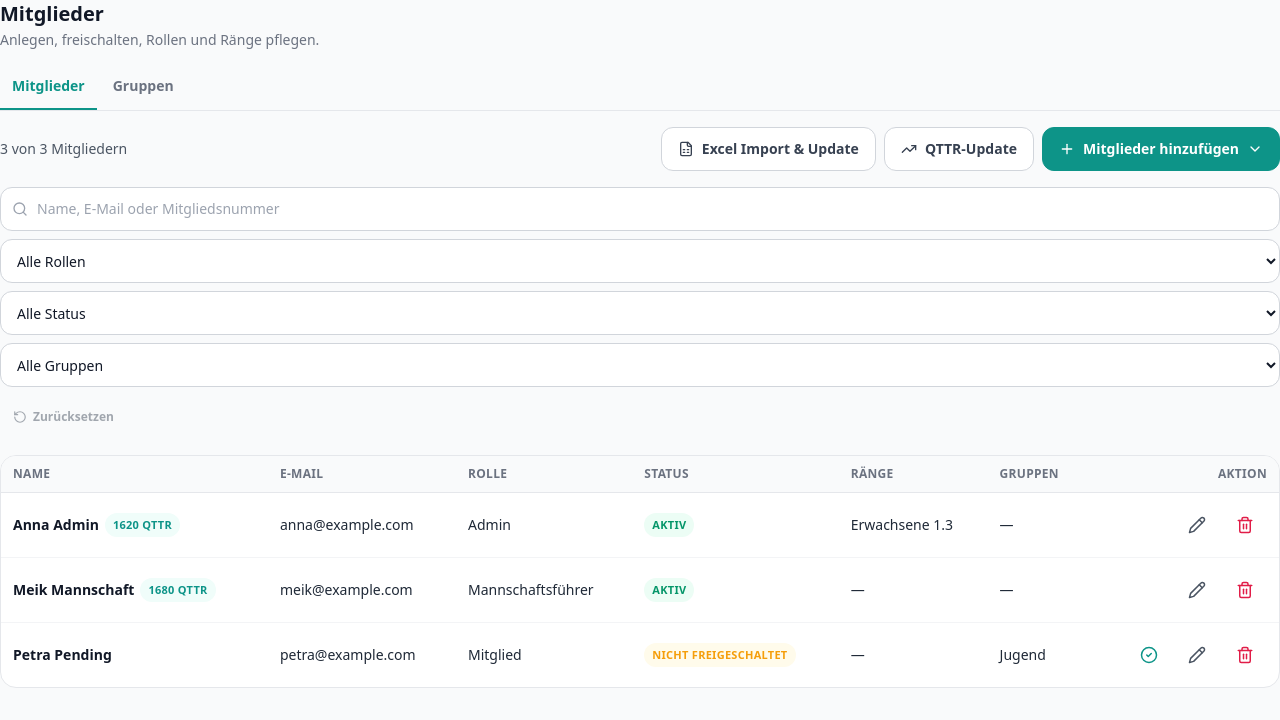
Test case: Gruppen › verlangt einen Gruppennamen
Click the tab "Gruppen". click: x=143, y=88
box: [101,66,186,110]
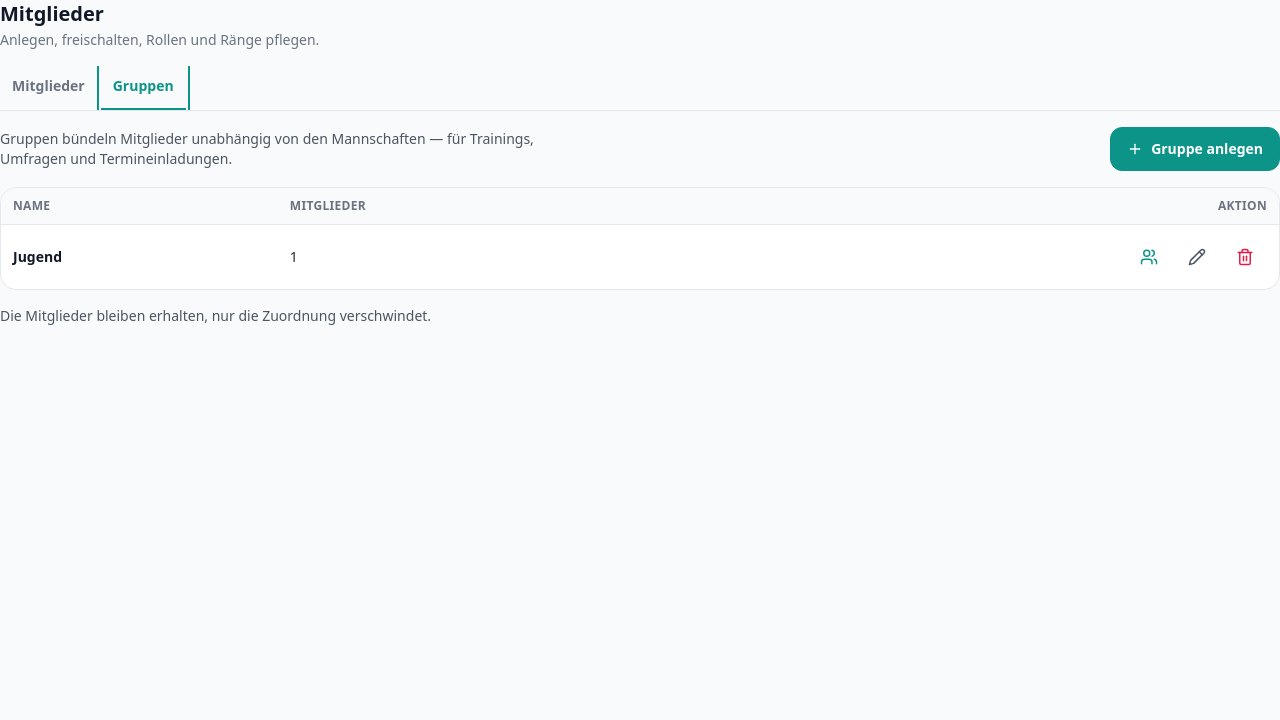
Click the button "Gruppe anlegen". click: x=1195, y=149
box: [1110,127,1279,171]
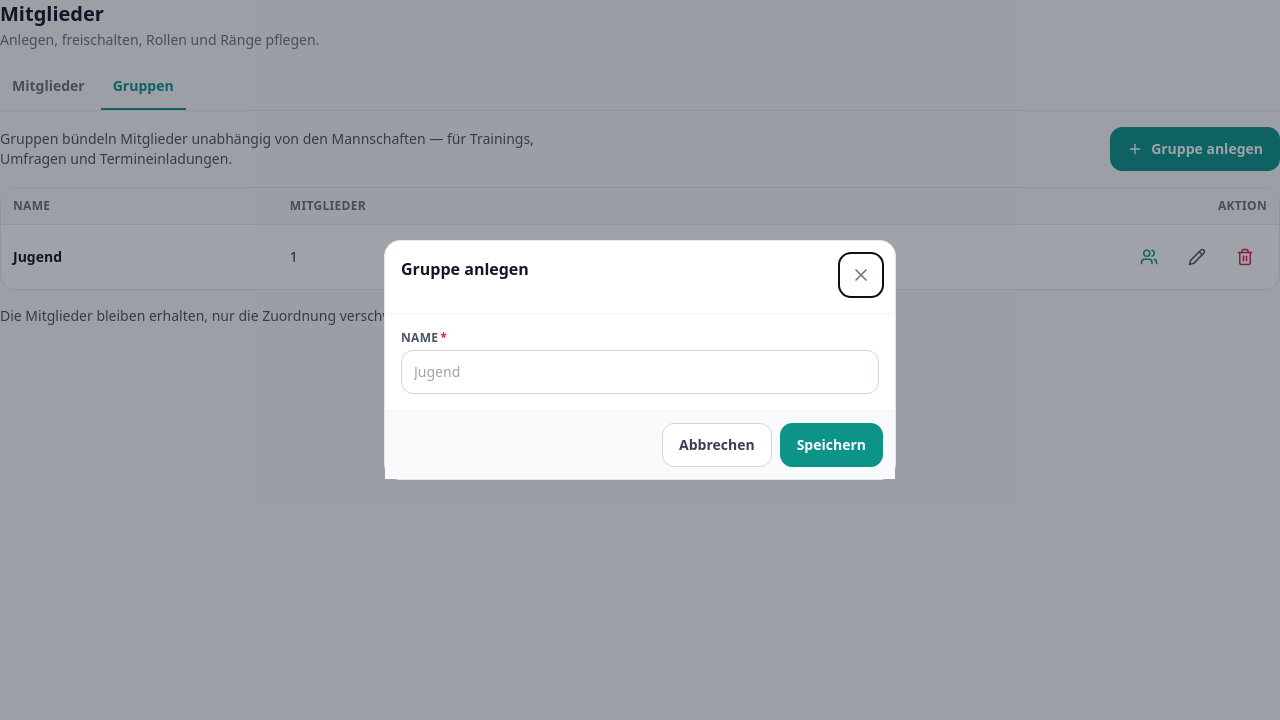
Click the button "Speichern". click: x=831, y=445
box: [780,423,883,467]
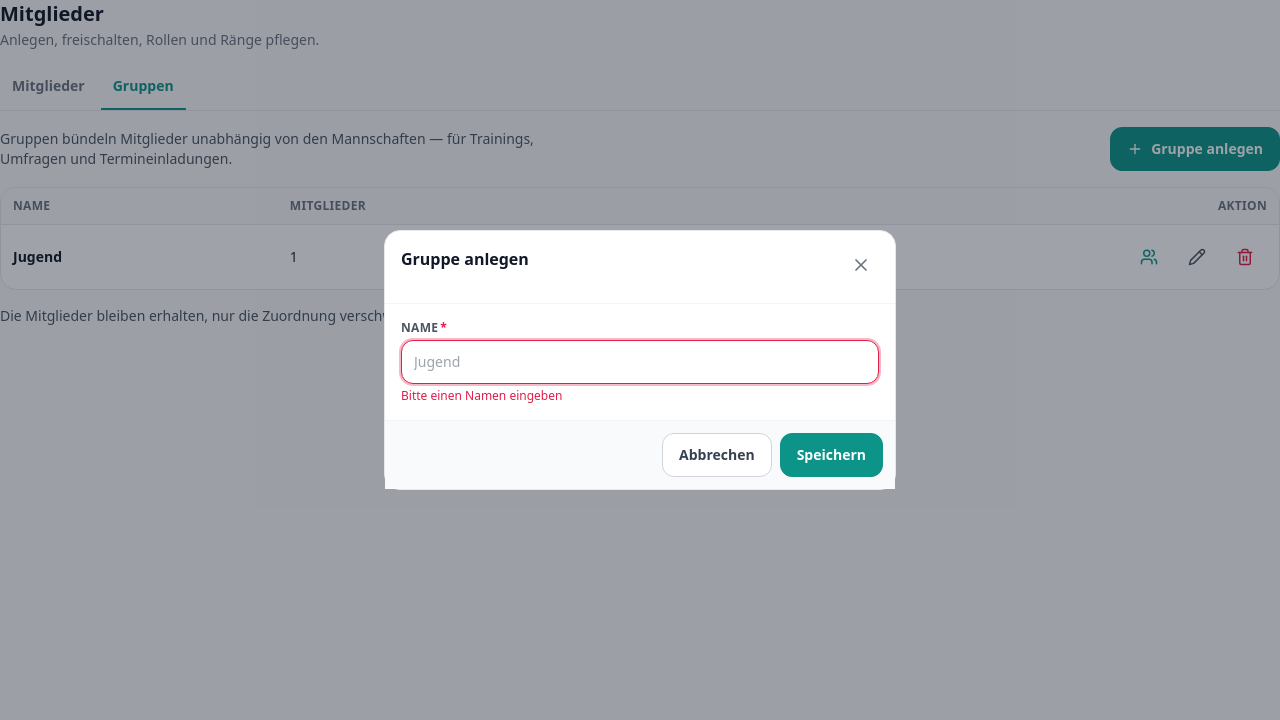
Now the text "Bitte einen Namen eingeben" is shown, box [401,387,562,404]
